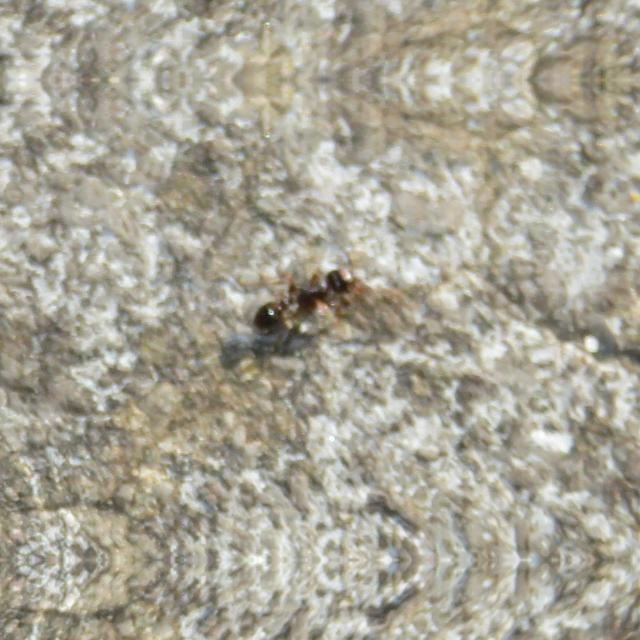Tetramorium: (255, 249, 368, 349)
